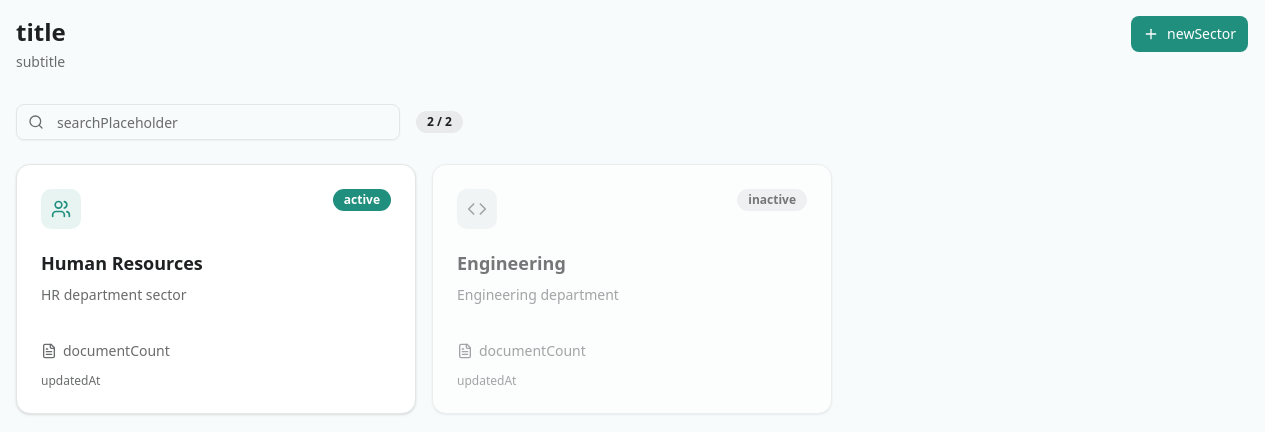
Test: SectorsView › should filter by description
In the field with placeholder "searchPlaceholder": (208, 122) [16, 104, 400, 140], type "engineering department"
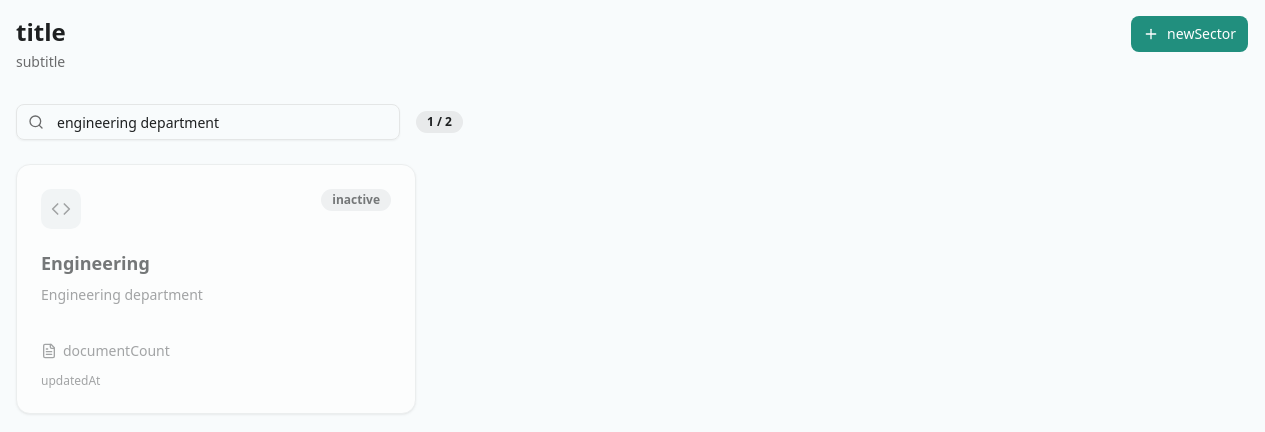
Expected: the text "Engineering" is shown, [41, 251, 150, 275]
Expected: the button "Human Resources" is gone
